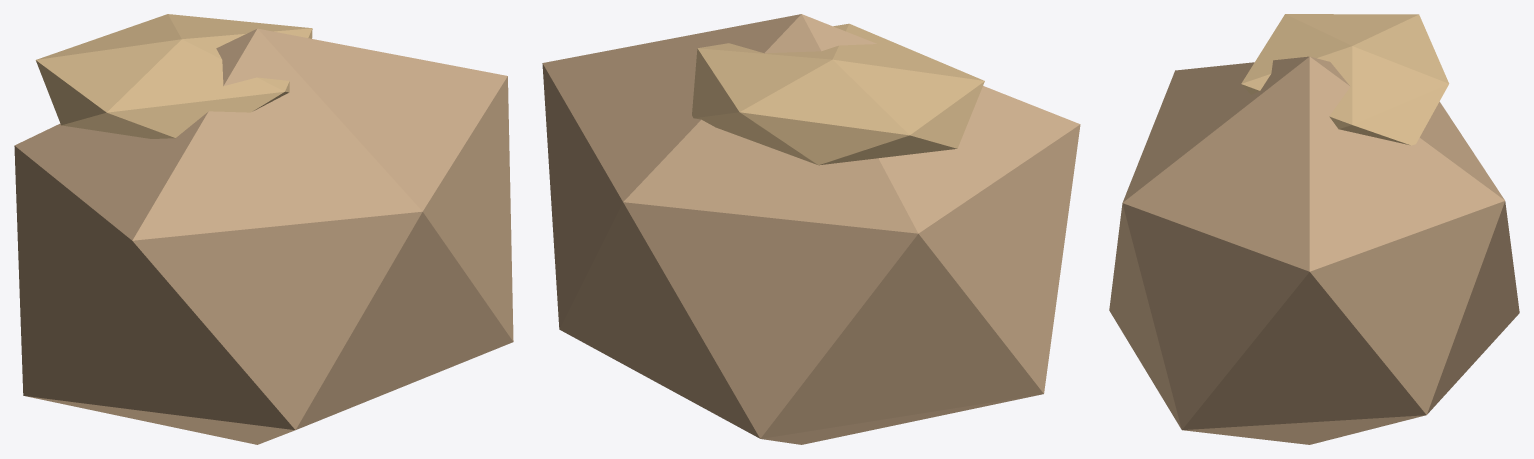
File: pedra.glb
The picture shows the model from 3 angles, left to right: view 1: azimuth 30°, elevation 25°; view 2: azimuth 150°, elevation 25°; view 3: azimuth 270°, elevation 25°; orthographic projection. The views are drawn at different scales.
Visible parts, largest first — view 1: deserto_pedra; view 2: deserto_pedra; view 3: deserto_pedra.
Part boxes in pixels (x1=…): deserto_pedra: x1=14, y1=14, x2=513, y2=444; deserto_pedra: x1=542, y1=14, x2=1080, y2=444; deserto_pedra: x1=1109, y1=14, x2=1519, y2=444.
Size of the model in its own units: 0.7353 by 0.6037 by 0.5782.
